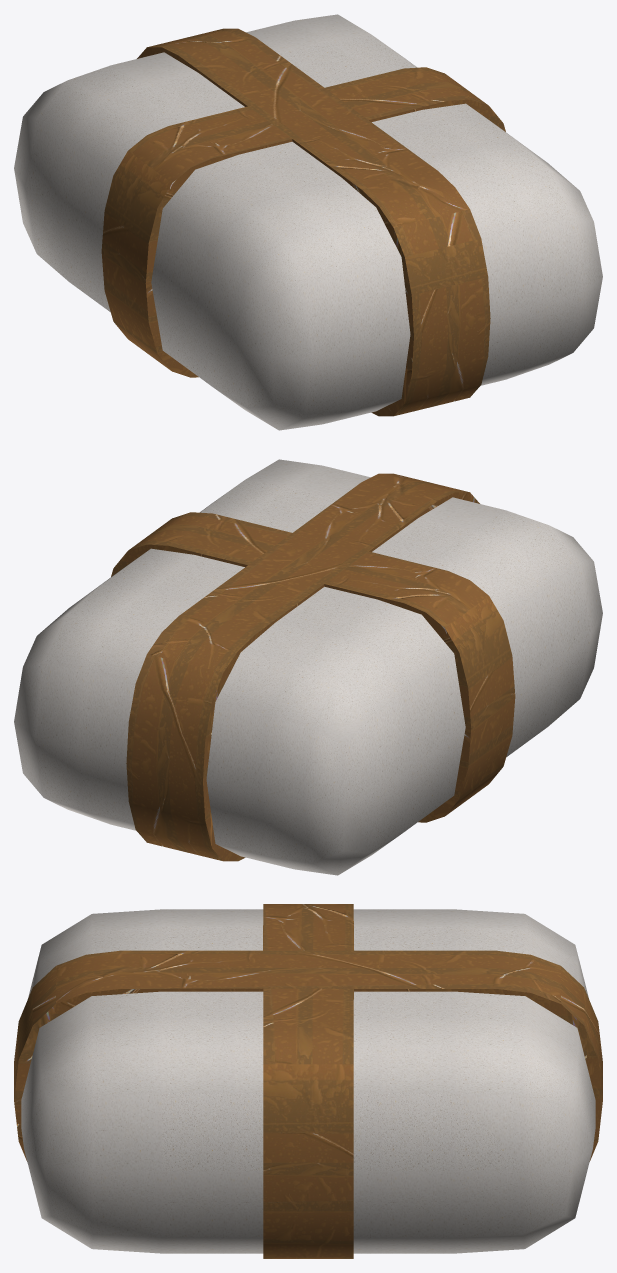
File: Drugs.fbx
3 views of the same model, one above another, from view 1: azimuth 30°, elevation 25°; view 2: azimuth 150°, elevation 25°; view 3: azimuth 270°, elevation 25° (orthographic). The views are drawn at different scales.
Visible parts, largest first — view 1: Cube, Cube.002; view 2: Cube, Cube.002; view 3: Cube, Cube.002.
Boxes of the visible parts, left/top/right/bottom form: Cube: left=14, top=14, right=602, bottom=430; Cube.002: left=101, top=28, right=505, bottom=416; Cube: left=14, top=459, right=602, bottom=875; Cube.002: left=111, top=473, right=515, bottom=861; Cube: left=21, top=909, right=595, bottom=1253; Cube.002: left=14, top=904, right=602, bottom=1258.
Size of the model in its own units: 89.26 by 50.49 by 120.
